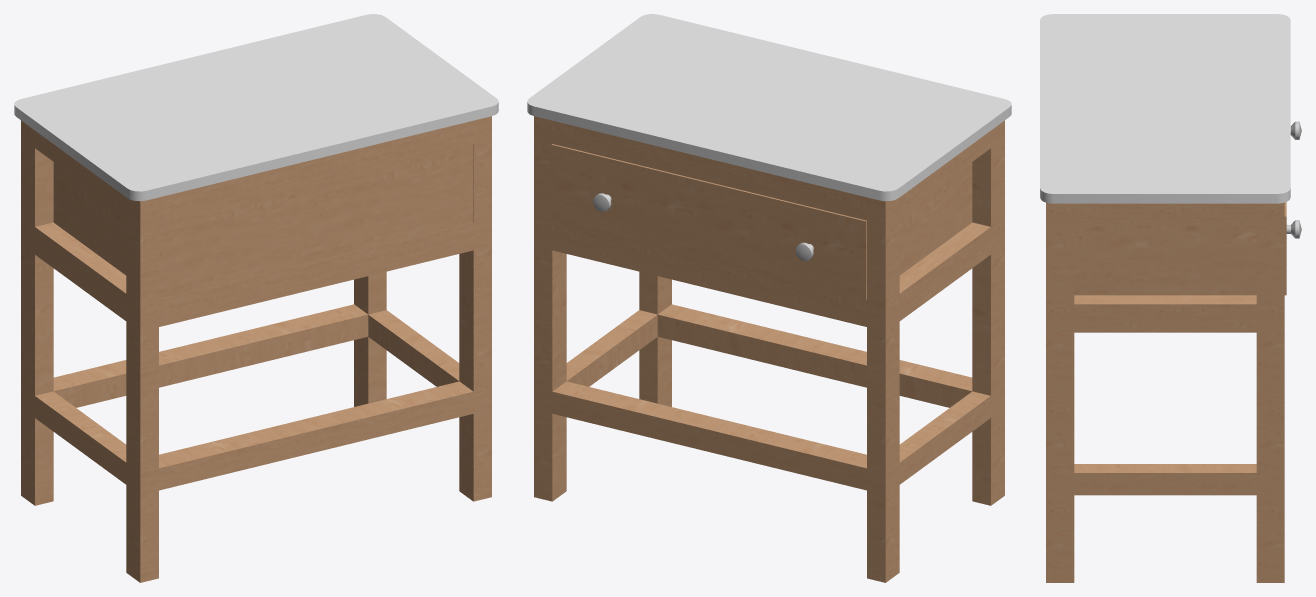
Rendered from BathroomVanity01.fbx.
The picture shows the model from 3 angles, left to right: view 1: azimuth 30°, elevation 25°; view 2: azimuth 150°, elevation 25°; view 3: azimuth 270°, elevation 25°; orthographic projection.
Parts seen in each view (by area): view 1: BathroomVanity01, BathroomVanity01Drawer; view 2: BathroomVanity01, BathroomVanity01Drawer; view 3: BathroomVanity01, BathroomVanity01Drawer.
Boxes of the visible parts, box(x1,y1,x2,y2) form: BathroomVanity01: box(14, 14, 498, 582); BathroomVanity01Drawer: box(53, 144, 473, 299); BathroomVanity01: box(527, 14, 1011, 582); BathroomVanity01Drawer: box(551, 144, 972, 299); BathroomVanity01: box(1040, 14, 1290, 582); BathroomVanity01Drawer: box(1074, 121, 1301, 295).
Bounding box in the file's own units: 78.46 × 79.89 × 48.19.
